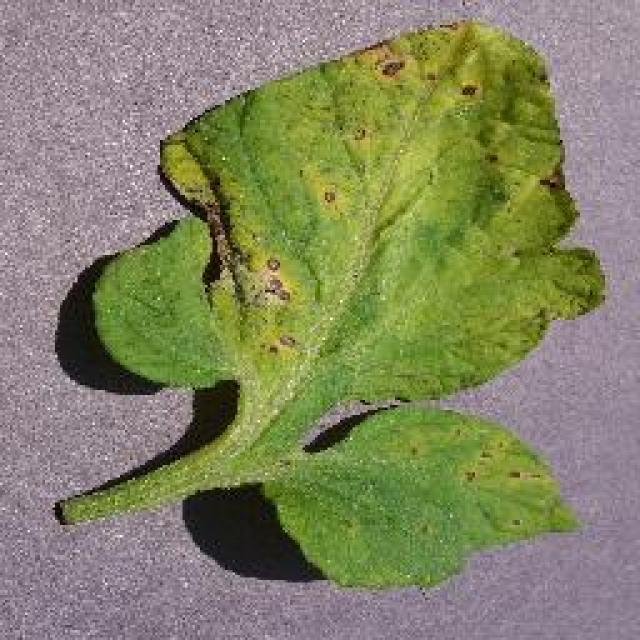Tomato___Septoria_leaf_spot: (62, 20, 602, 585)
